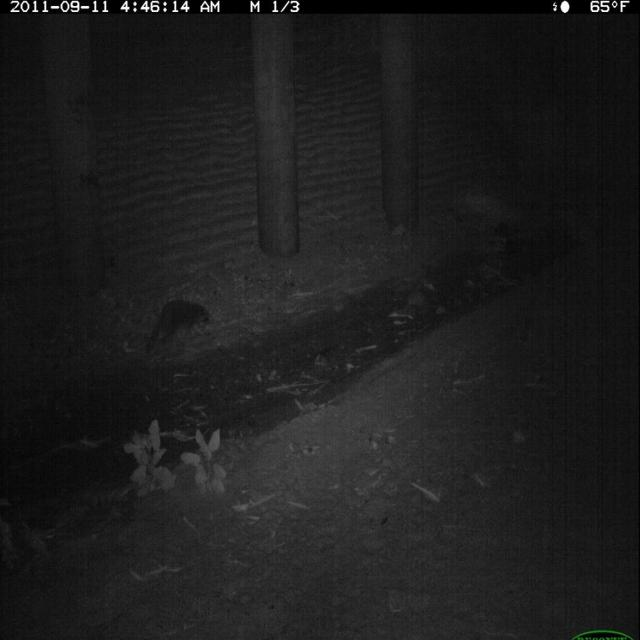raccoon: (141, 296, 215, 361)
